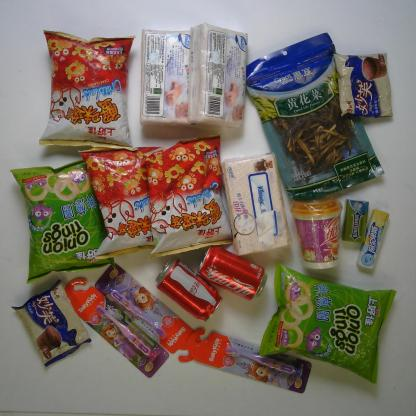Candy: (356, 208, 390, 270)
Dessert: (10, 278, 92, 367), (332, 51, 396, 119)
Dried Food: (243, 32, 387, 201)
Drink: (154, 257, 224, 322), (198, 245, 268, 301)
Gum: (342, 198, 370, 244)
Instant Drink: (290, 196, 344, 271)
Personal Hygiene: (95, 262, 202, 364), (64, 278, 170, 378), (187, 328, 312, 393)
Puffed Food: (258, 260, 396, 386), (10, 159, 118, 284), (37, 26, 142, 151), (141, 134, 236, 258), (78, 144, 166, 261)
Tissue: (219, 151, 294, 257), (184, 21, 248, 129), (138, 26, 197, 129)
